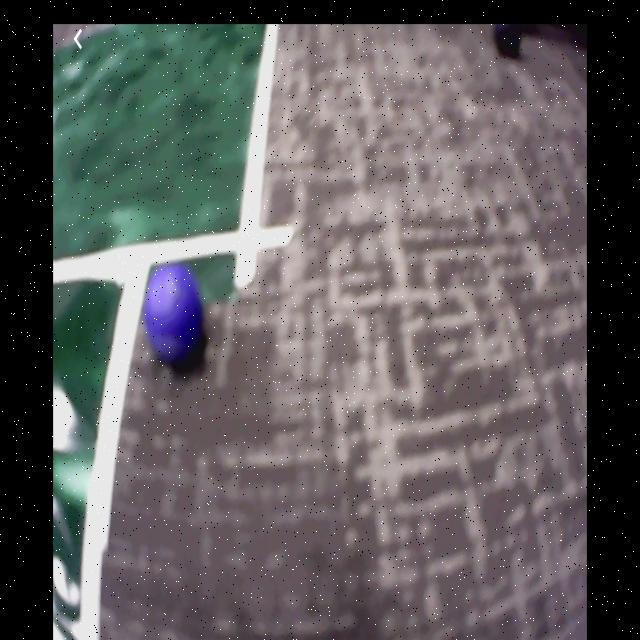ball: (143, 267, 205, 363)
